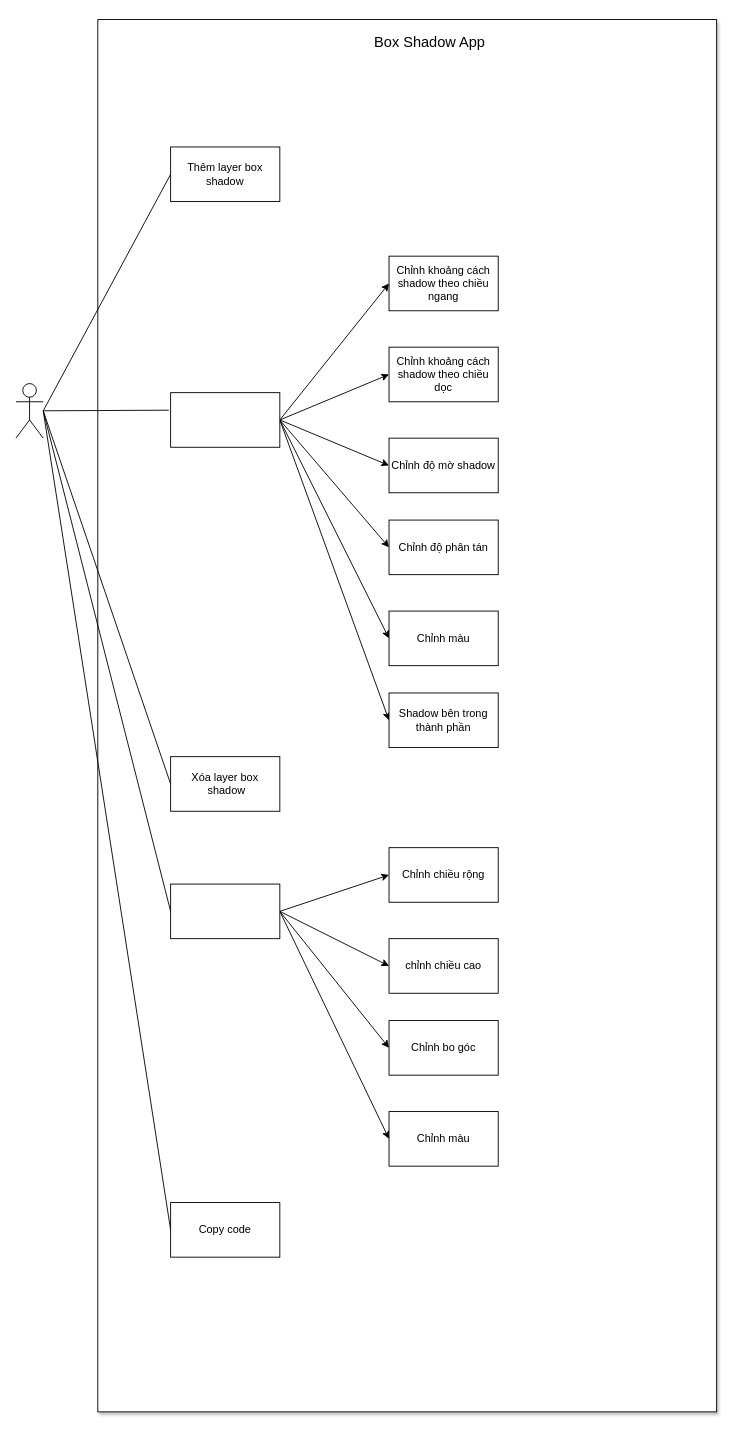
The diagram is 738 pixels wide and 1434 high, and some of its shapes have lost their labels. Each missing label, with the centre of its shape:
Actor: (29,410)
Chỉnh box properties: (225,911)
Chỉnh layer box shadow: (225,419)
